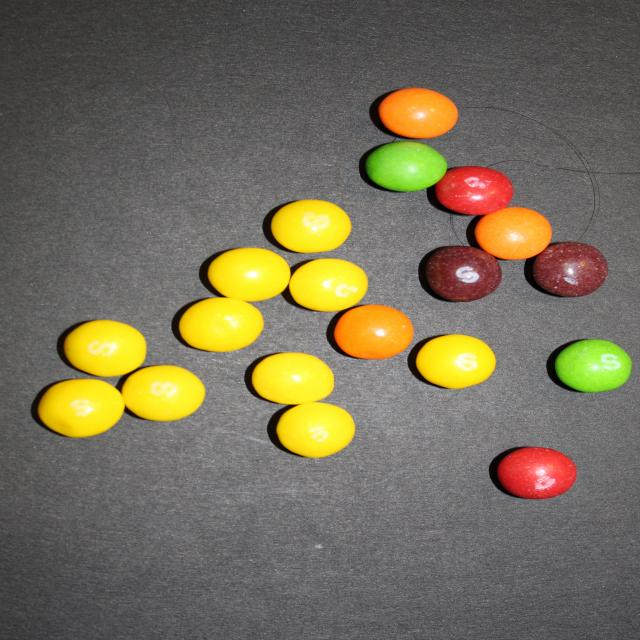smartie: (36, 379, 123, 438), (62, 320, 145, 377), (121, 366, 204, 422), (178, 298, 263, 352), (207, 247, 291, 301), (270, 199, 351, 253), (276, 403, 355, 458), (416, 335, 496, 389), (251, 353, 334, 405), (334, 305, 413, 359), (426, 246, 502, 302), (288, 258, 368, 311), (498, 448, 578, 500), (475, 207, 553, 260), (555, 340, 633, 393), (534, 242, 609, 297), (378, 87, 458, 138), (366, 141, 447, 191), (435, 165, 514, 215)
